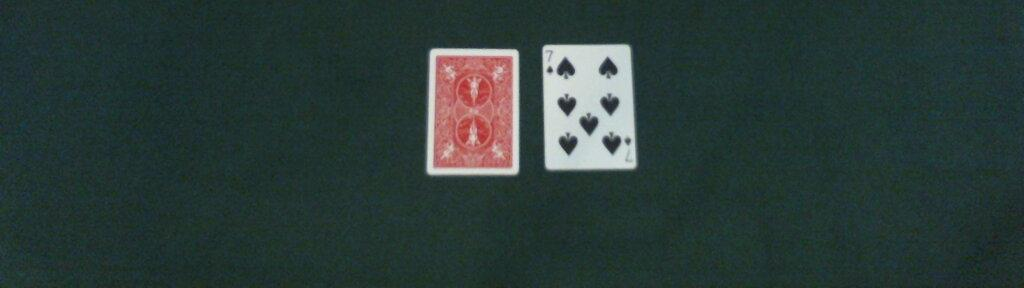back: (424, 46, 520, 175)
seven: (541, 41, 636, 171)
